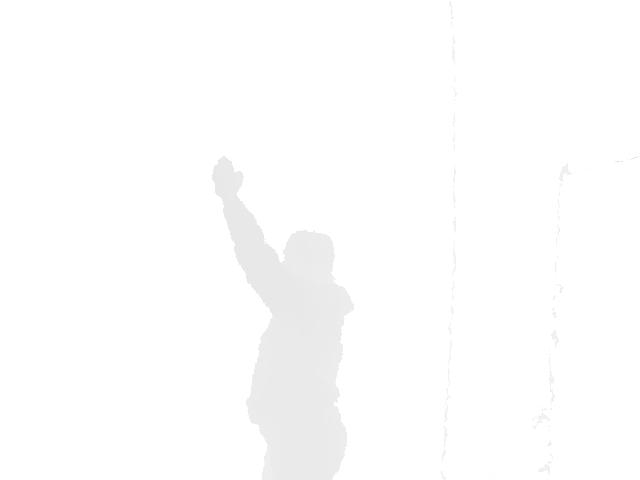hand: (211, 155, 245, 198)
head: (280, 229, 337, 282)
person: (211, 155, 356, 480)
